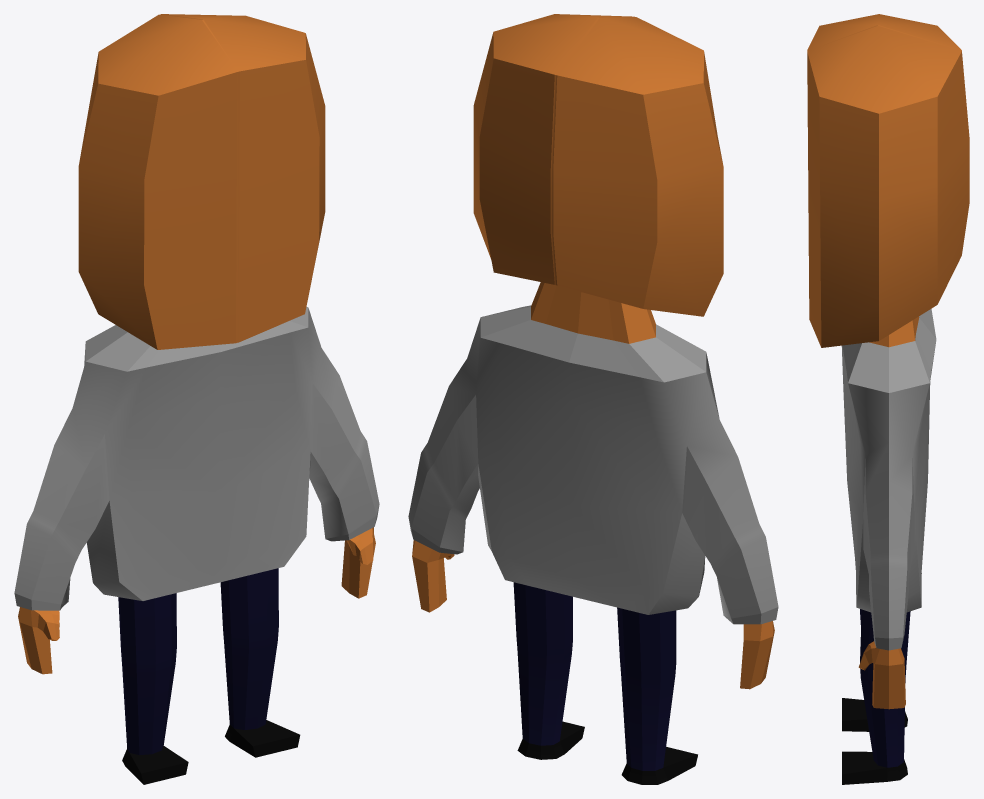
Rendered from Guy.FBX.
The picture shows the model from 3 angles, left to right: view 1: azimuth 30°, elevation 25°; view 2: azimuth 150°, elevation 25°; view 3: azimuth 270°, elevation 25°; orthographic projection. The views are drawn at different scales.
Visible parts, largest first — view 1: Cylinder001; view 2: Cylinder001; view 3: Cylinder001.
Boxes of the visible parts, box(x1,y1,x2,y2) form: Cylinder001: box(14, 14, 379, 784); Cylinder001: box(408, 14, 778, 784); Cylinder001: box(807, 14, 969, 784).
Bounding box in the file's own units: 22.46 × 43.11 × 8.79.
